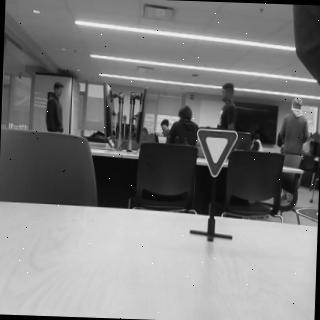sign_yield: (196, 129, 241, 181)
